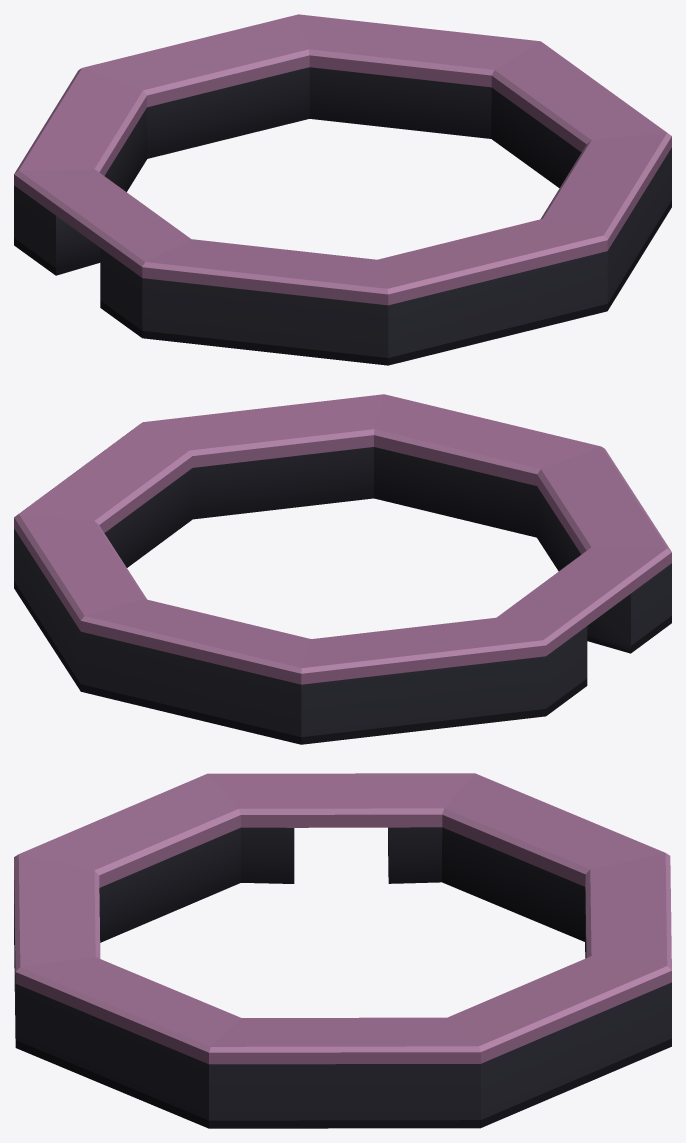
The model's file is bar table.fbx.
3 views of the same model, one above another, from view 1: azimuth 30°, elevation 25°; view 2: azimuth 150°, elevation 25°; view 3: azimuth 270°, elevation 25° (orthographic). The views are drawn at different scales.
Visible parts, largest first — view 1: Cylinder.010; view 2: Cylinder.010; view 3: Cylinder.010.
Boxes of the visible parts, bbox=[...] form: Cylinder.010: bbox=[14, 14, 671, 365]; Cylinder.010: bbox=[14, 394, 671, 744]; Cylinder.010: bbox=[14, 773, 671, 1128].
Size of the model in its own units: 1009 by 135 by 1011.
